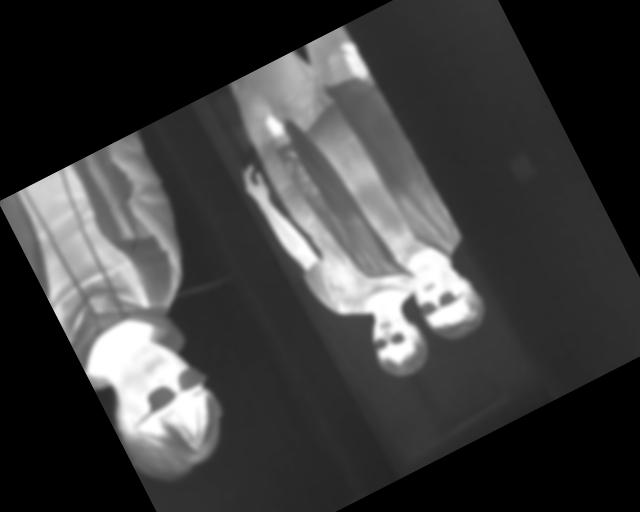face: (86, 326, 240, 495), (403, 251, 493, 350), (359, 300, 436, 386)
